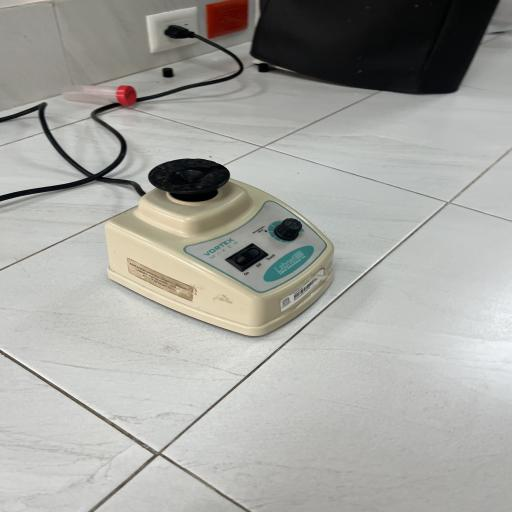Vortex_Mixer_LabNet: (84, 142, 370, 340)
